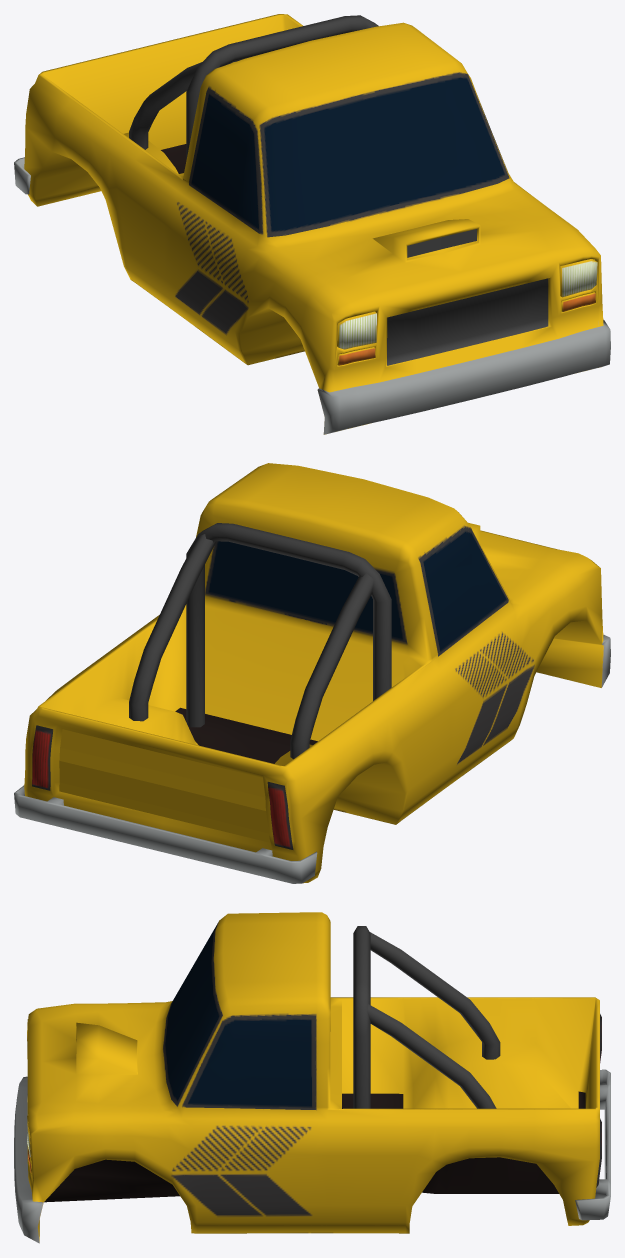
File: Truck2_Fixed.fbx
The picture shows the model from 3 angles, top to bottom: view 1: azimuth 30°, elevation 25°; view 2: azimuth 150°, elevation 25°; view 3: azimuth 270°, elevation 25°; orthographic projection. The views are drawn at different scales.
Parts seen in each view (by area): view 1: Jaula; view 2: Jaula; view 3: Jaula.
Boxes of the visible parts, x1,y1,x2,y2 form: Jaula: [14, 14, 610, 434]; Jaula: [14, 463, 610, 883]; Jaula: [14, 912, 610, 1243].
Size of the model in its own units: 132 by 108 by 253.
1 material, 1 textured.
